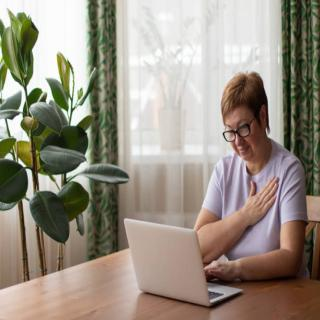Please: (242, 170, 283, 218)
